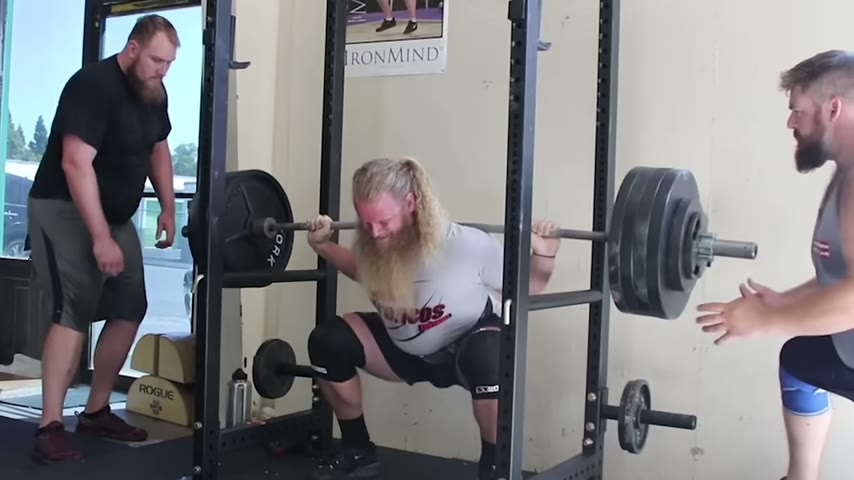barbell_plate_side: (480, 167, 599, 348), (656, 164, 765, 338), (194, 163, 275, 295)
